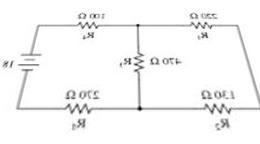resistor: (62, 98, 100, 115), (197, 102, 240, 114), (131, 47, 149, 74), (71, 18, 102, 30), (185, 18, 217, 29)
